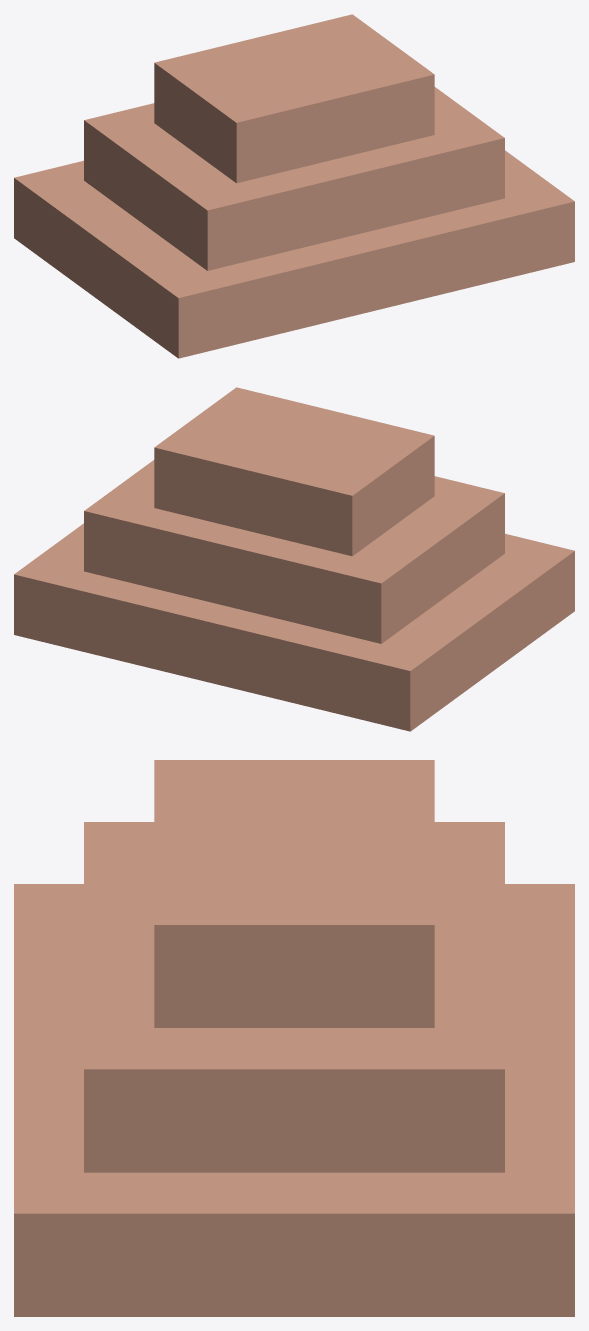
File: place-ziggurat-of-ur.glb
3 renders of one model, top to bottom at view 1: azimuth 30°, elevation 25°; view 2: azimuth 150°, elevation 25°; view 3: azimuth 270°, elevation 25°, orthographic. The views are drawn at different scales.
Parts seen in each view (by area): view 1: place-ziggurat-of-ur; view 2: place-ziggurat-of-ur; view 3: place-ziggurat-of-ur.
Boxes of the visible parts, bbox=[...] form: place-ziggurat-of-ur: bbox=[14, 14, 574, 358]; place-ziggurat-of-ur: bbox=[14, 387, 574, 731]; place-ziggurat-of-ur: bbox=[14, 760, 574, 1316].
Bounding box in the file's own units: 64 × 28 × 46.
